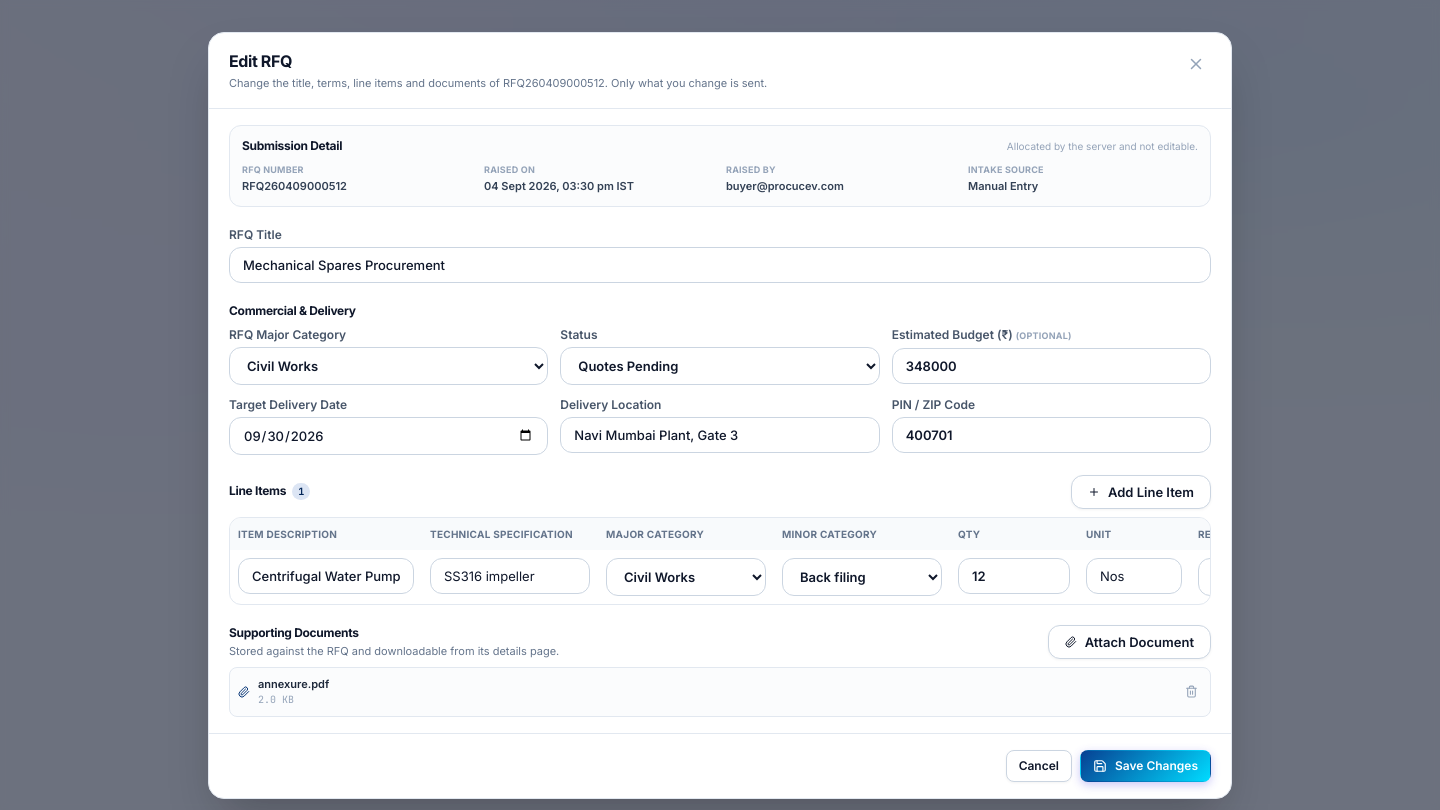
RFQEditModal: supporting documents › removes an attachment
This screenshot has width=1440, height=810.
Click the button named "Remove annexure.pdf": {"x": 1192, "y": 692} [1181,681,1202,702]
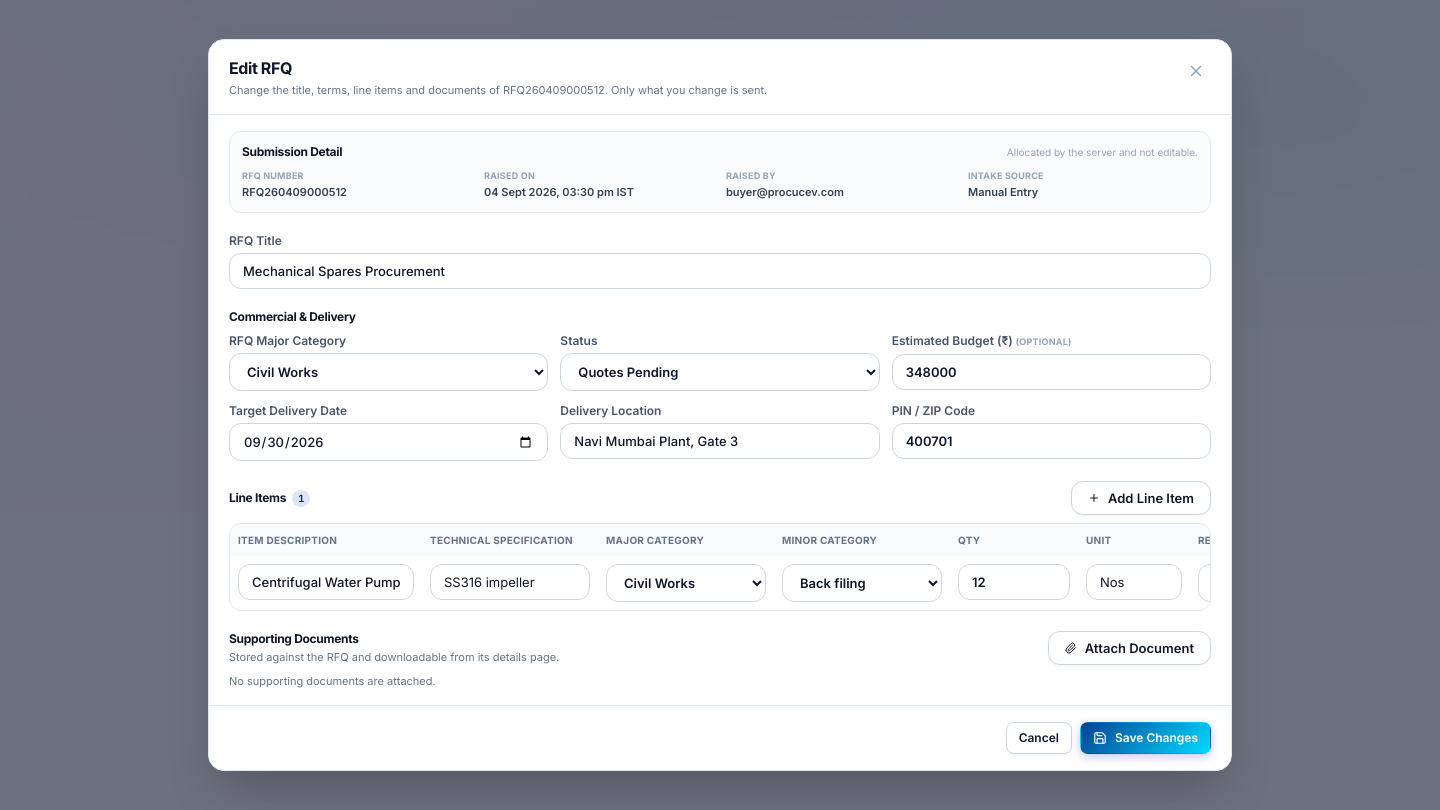
Result: the text "annexure.pdf" is gone
Result: the text "No supporting documents are attached." is shown at [229,674,436,688]
